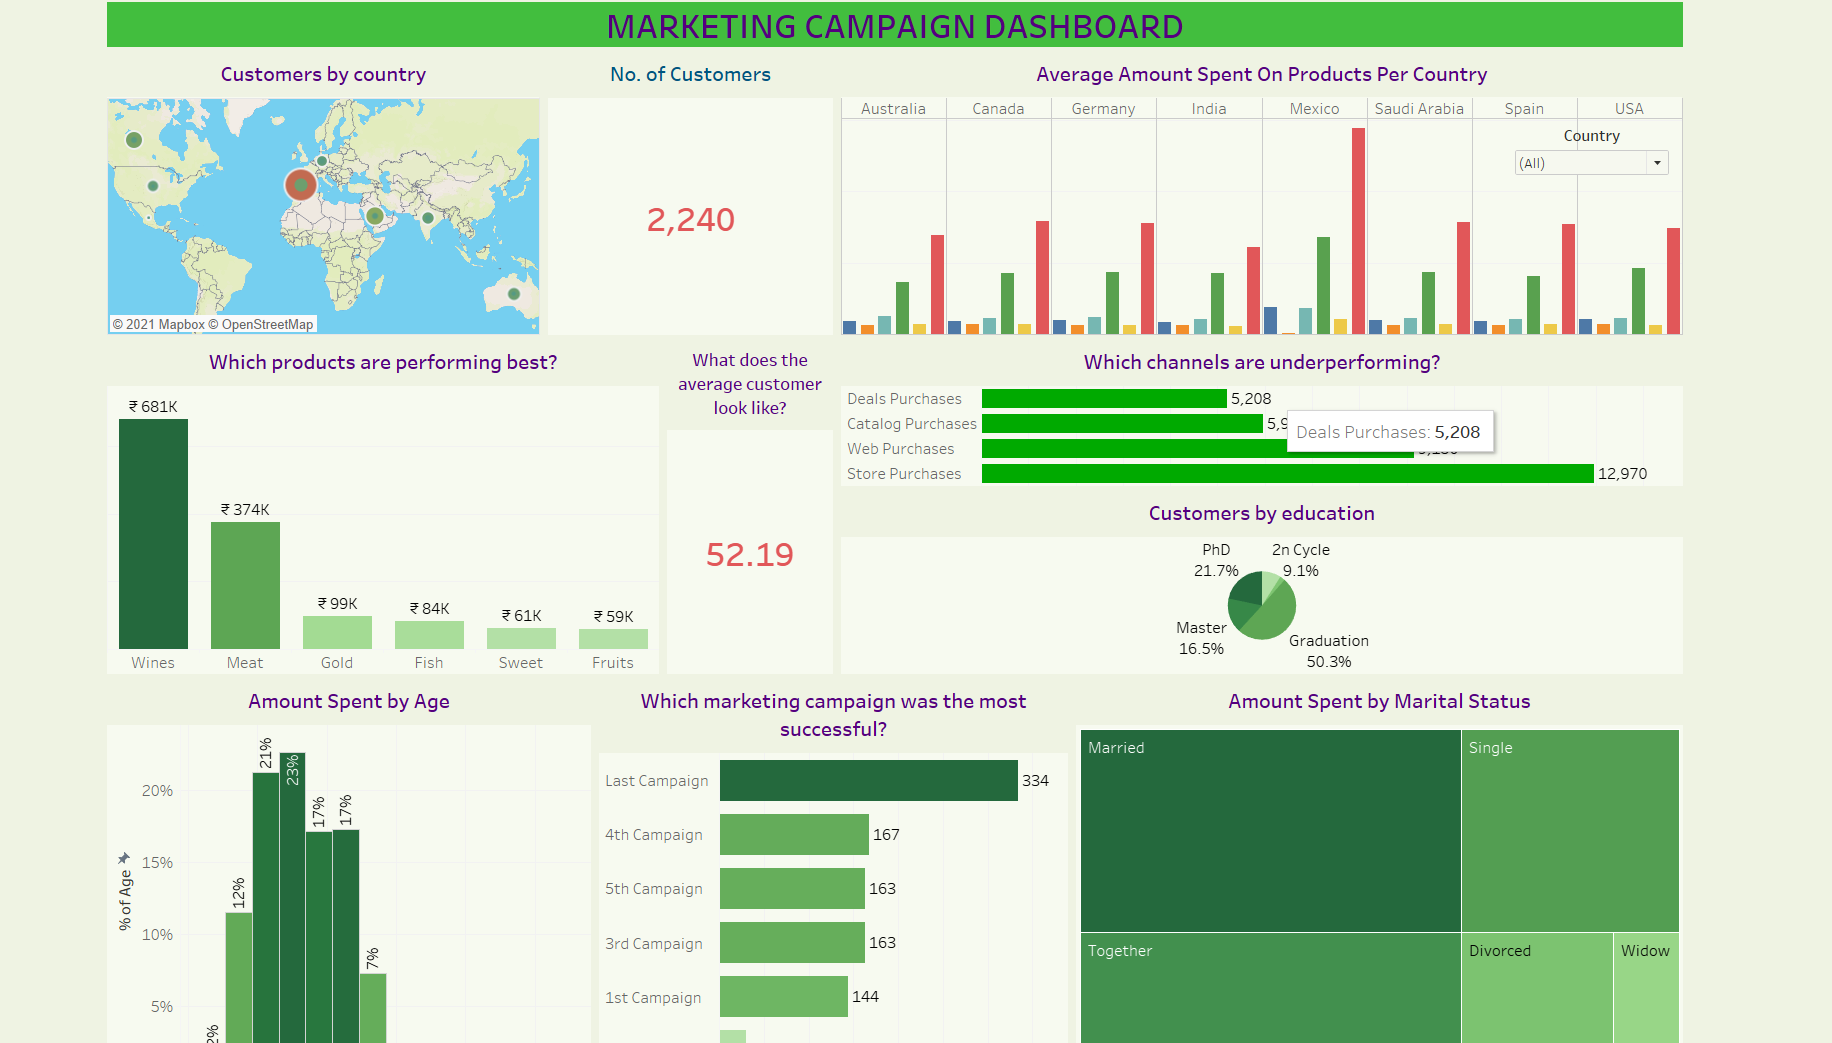

The dashboard page shown, as its layout file describes it:
{"tool":"tableau","page":{"name":"MARKETING CAMPAIGN DASHBOARD","canvas":[1600,1100],"ordinal":0},"visuals":[{"type":"title","box":[8,8,1584,53]},{"type":"worksheet","title":"Average Amount Spent On Products Per Country","mark":"Automatic","cols":["Country"],"box":[794,67,801,324]},{"type":"image","param":"C:/Users/Ali/Downloads/unnamed.jpg","box":[582,71.5,174,124.3]},{"type":"filter","title":"Average Amount Spent On Products Per Country","param":"[federated.16z1d1y0x076zk1gl0ity0jafhk9].[none:Country:nk]","box":[1390,72,195,32]},{"type":"worksheet","title":"Customers by country","mark":"Circle","box":[9,73,526,439]},{"type":"filter","title":"Customers by country","param":"[federated.16z1d1y0x076zk1gl0ity0jafhk9].[none:Country:nk]","box":[333,84.7,199,39.6]},{"type":"worksheet","title":"No. of Customers","mark":"Automatic","box":[545,206.8,244,151.8]},{"type":"worksheet","title":"What does the average customer look like?","mark":"Automatic","box":[545,372.9,235,147.4]},{"type":"worksheet","title":"Which channels are underperforming?","mark":"Automatic","box":[793,394,800,163]},{"type":"worksheet","title":"Which products are performing best?","mark":"Automatic","box":[6,514,775,287]},{"type":"worksheet","title":"Amount Spent by Marital Status","mark":"Automatic","box":[834,533,753,309]},{"type":"worksheet","title":"Customers by education","mark":"Pie","box":[547,808,396,291]},{"type":"worksheet","title":"Amount Spent by Age","mark":"Automatic","rows":["Calculation_897623749452431360"],"cols":["Age (bin)"],"box":[9,809,533,287]},{"type":"filter","title":"Customers by education","param":"[federated.16z1d1y0x076zk1gl0ity0jafhk9].[none:Country:nk]","box":[790,858,149,38]}]}

Visuals, with their boxes in screenshot pixels (x1, y1, x2, y2):
title: bbox=(241, 0, 1672, 31)
"Average Amount Spent On Products Per Country" worksheet: bbox=(951, 37, 1675, 329)
image: bbox=(760, 41, 917, 153)
"Average Amount Spent On Products Per Country" filter: bbox=(1490, 41, 1666, 70)
"Customers by country" worksheet (Circle marks): bbox=(242, 42, 717, 439)
"Customers by country" filter: bbox=(535, 53, 714, 88)
"No. of Customers" worksheet: bbox=(726, 163, 947, 300)
"What does the average customer look like?" worksheet: bbox=(726, 313, 938, 446)
"Which channels are underperforming?" worksheet: bbox=(950, 332, 1673, 479)
"Which products are performing best?" worksheet: bbox=(239, 441, 939, 700)
"Amount Spent by Marital Status" worksheet: bbox=(987, 458, 1668, 737)
"Customers by education" worksheet (Pie marks): bbox=(728, 706, 1086, 969)
"Amount Spent by Age" worksheet: bbox=(242, 707, 723, 966)
"Customers by education" filter: bbox=(948, 751, 1082, 786)
